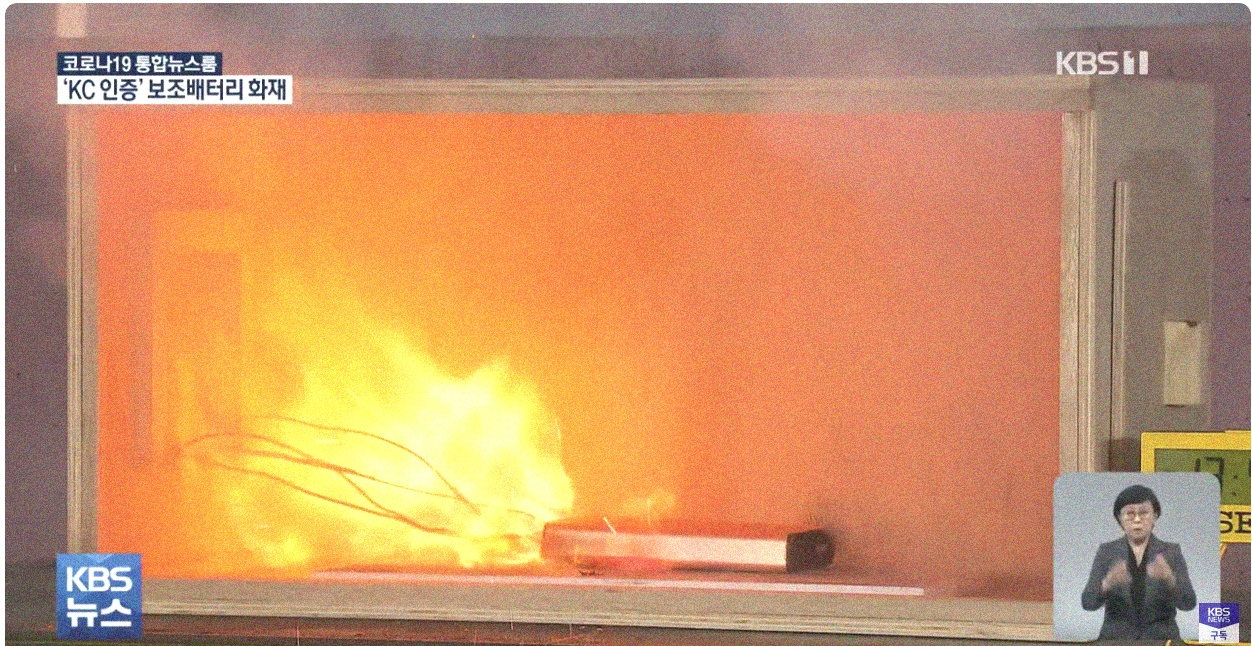fire: (188, 226, 571, 561)
